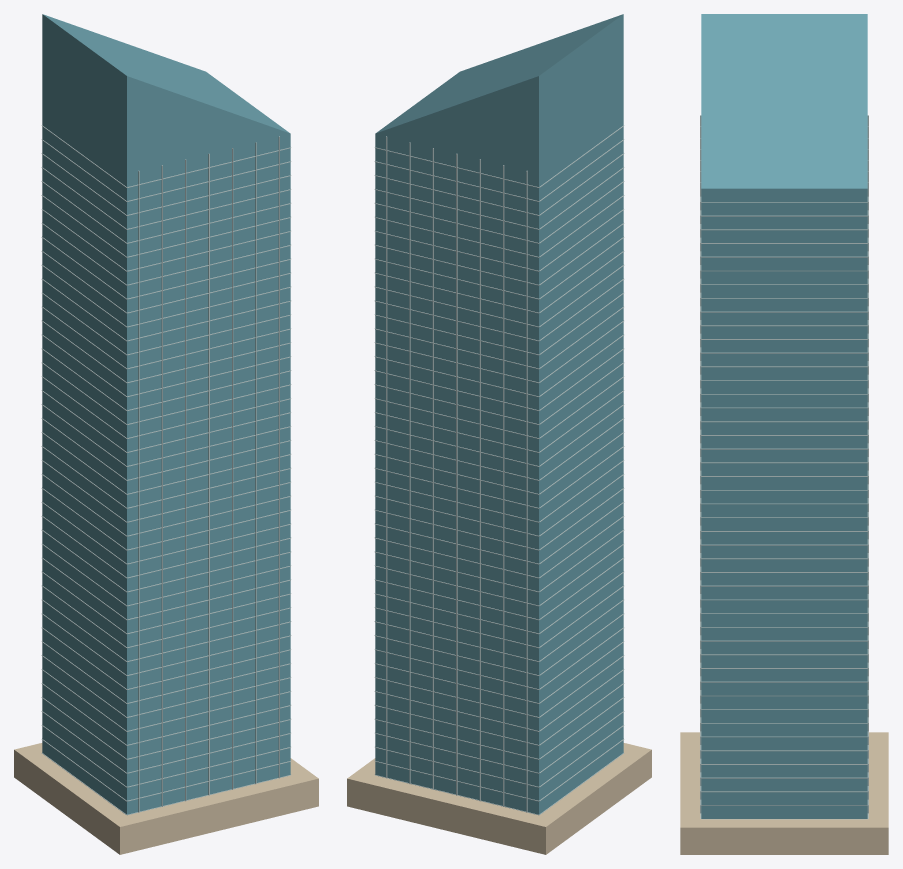
Rendered from bfc-s2.glb.
The picture shows the model from 3 angles, left to right: view 1: azimuth 30°, elevation 25°; view 2: azimuth 150°, elevation 25°; view 3: azimuth 270°, elevation 25°; orthographic projection.
Parts seen in each view (by area): view 1: bfc-s2; view 2: bfc-s2; view 3: bfc-s2.
Part boxes in pixels (left/top/right/bottom): bfc-s2: left=14, top=14, right=318, bottom=854; bfc-s2: left=347, top=14, right=651, bottom=854; bfc-s2: left=680, top=14, right=888, bottom=854.
Bounding box in the file's own units: 48.85 × 180 × 45.04.
